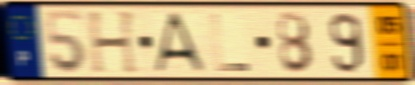5: (43, 8, 90, 77)
8: (275, 10, 315, 75)
9: (327, 11, 365, 75)
A: (152, 10, 210, 75)
H: (85, 9, 141, 76)
L: (209, 11, 252, 73)
